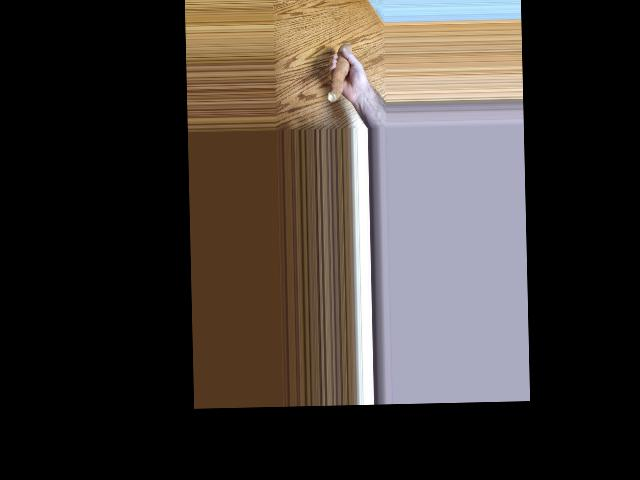sweet_potato: (326, 41, 352, 105)
